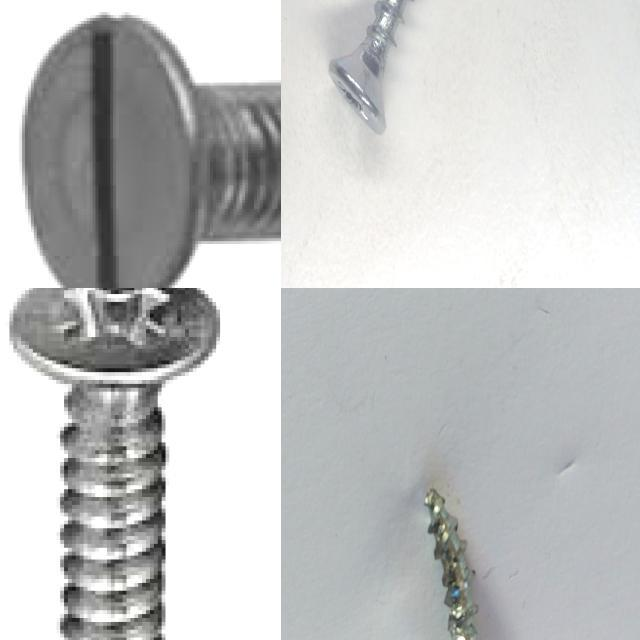Screw: (9, 288, 220, 640), (22, 15, 281, 288), (329, 0, 407, 134), (425, 488, 479, 640)
